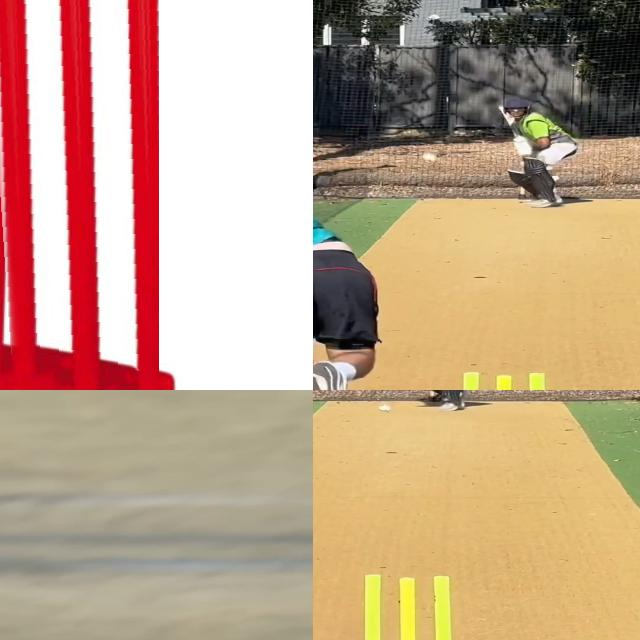Cricket ball: (420, 150, 440, 163), (376, 403, 394, 413)
Stumps: (0, 0, 158, 390)
